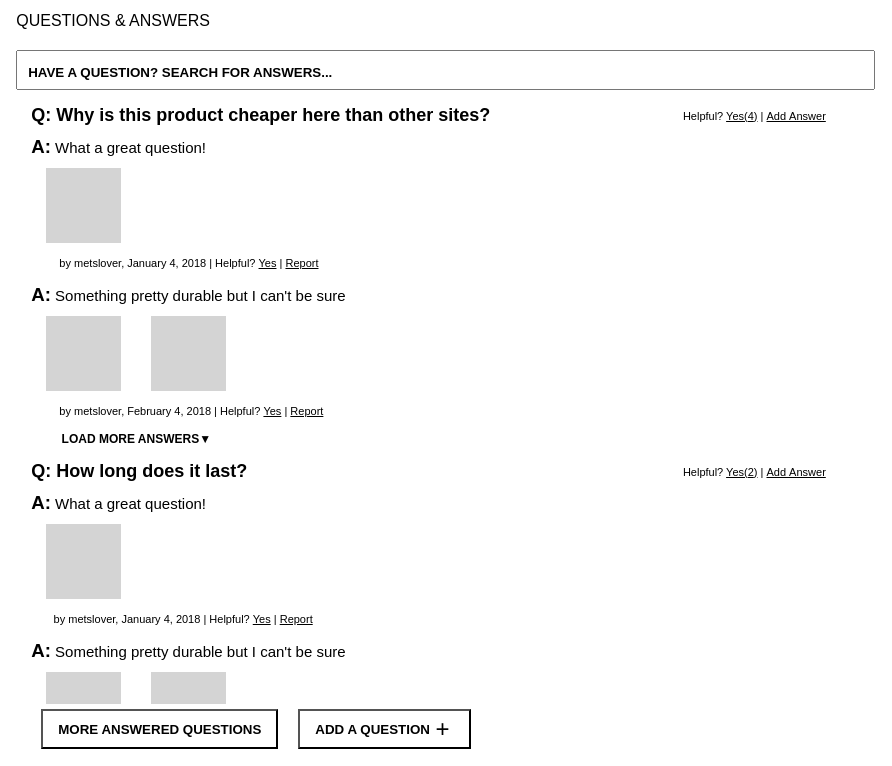
QA Search › Should display results from search
Type "hello" into the field with placeholder "HAVE A QUESTION? SEARCH FOR ANSWERS..." at (446,70), box [16,50,875,90]
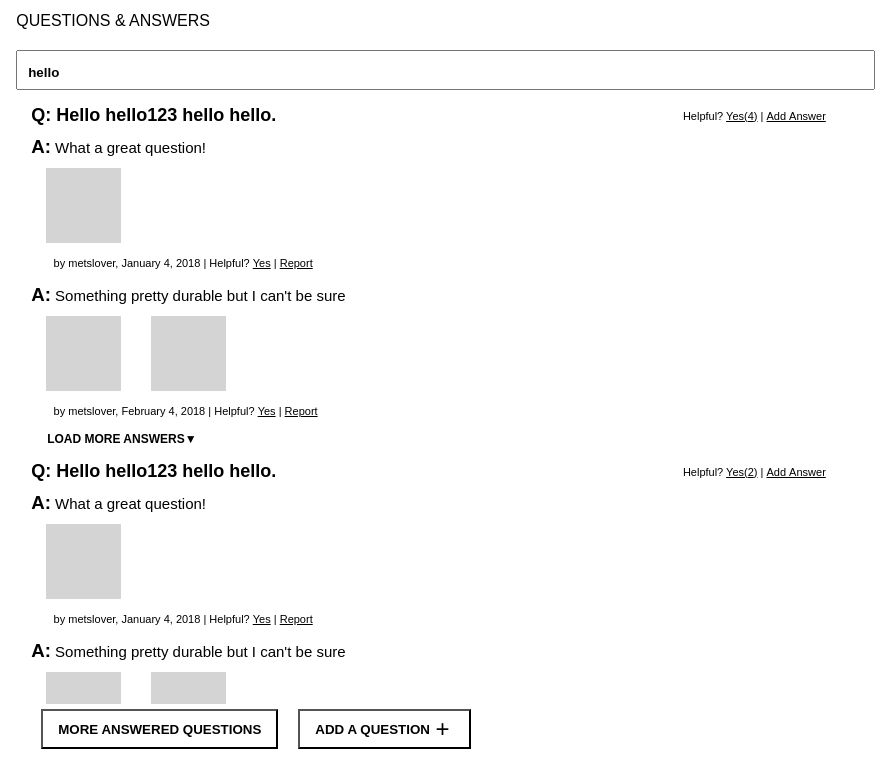
expect the text "Q: Hello hello123 hello hello." is shown 2 times: met, box [56,105,276,125]; [56,461,276,481]
expect the 1st text "Q: Hello hello123 hello hello." is shown: met, box [56,105,276,125]
